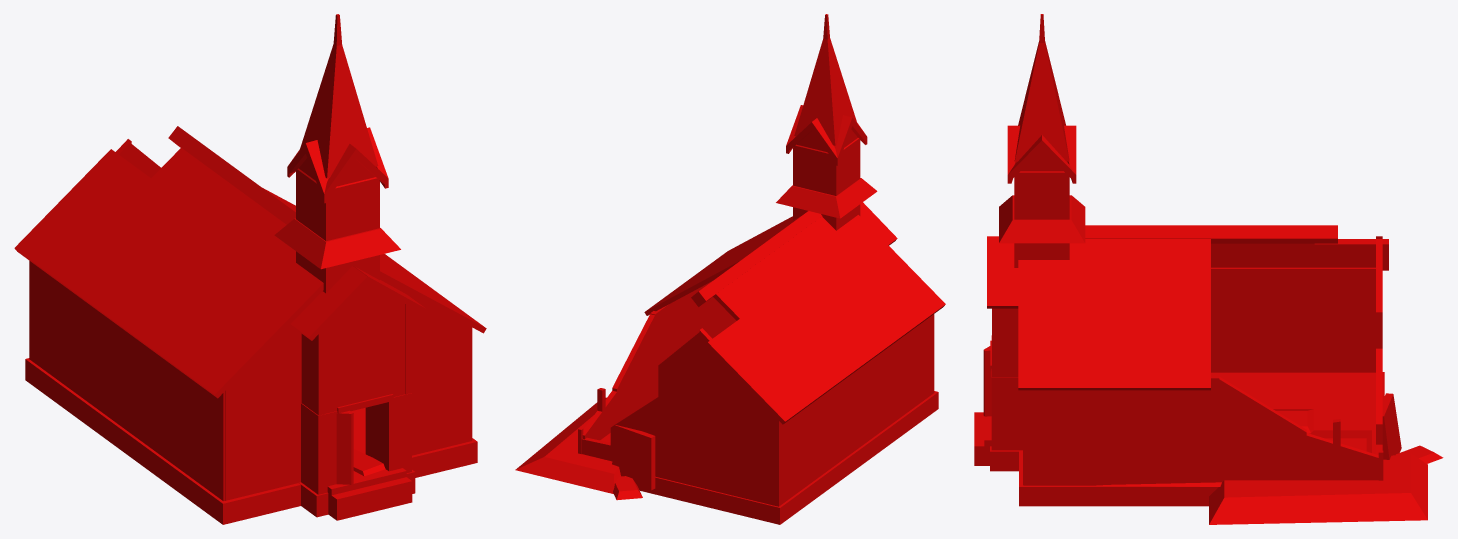
File: SM_Bld_Church_01_Collision.fbx
3 views of the same model, side by side, from view 1: azimuth 30°, elevation 25°; view 2: azimuth 150°, elevation 25°; view 3: azimuth 270°, elevation 25° (orthographic). The views are drawn at different scales.
Visible parts, largest first — view 1: SM_Bld_Church_01_Collision; view 2: SM_Bld_Church_01_Collision; view 3: SM_Bld_Church_01_Collision.
Boxes of the visible parts, bbox=[...] form: SM_Bld_Church_01_Collision: bbox=[14, 14, 486, 524]; SM_Bld_Church_01_Collision: bbox=[515, 14, 945, 524]; SM_Bld_Church_01_Collision: bbox=[974, 14, 1443, 524].
Size of the model in its own units: 1240 by 1707 by 1672.
